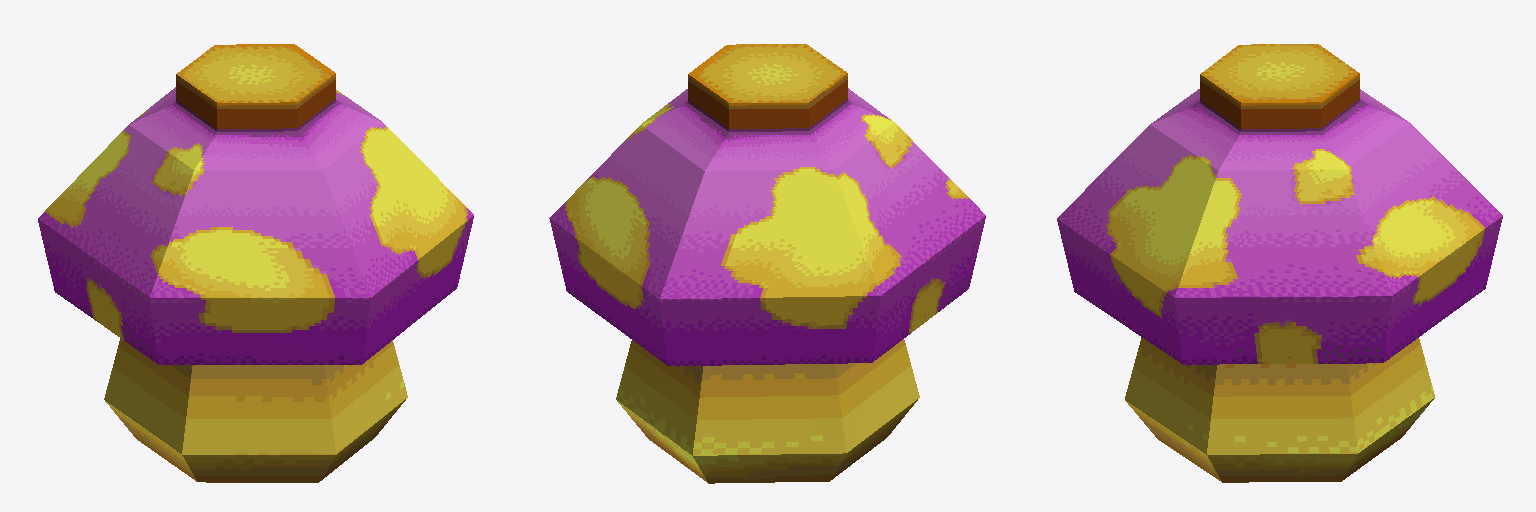
3 views of the same model, side by side, from view 1: azimuth 30°, elevation 25°; view 2: azimuth 150°, elevation 25°; view 3: azimuth 270°, elevation 25° (orthographic).
Visible parts, largest first — view 1: Regroup00; view 2: Regroup00; view 3: Regroup00.
Part boxes in pixels (left/top/right/bottom): Regroup00: left=38, top=44, right=473, bottom=482; Regroup00: left=549, top=44, right=985, bottom=483; Regroup00: left=1057, top=44, right=1502, bottom=482.
Bounding box in the file's own units: 0.2138 × 0.2249 × 0.2494.
1 materials, 1 textured.